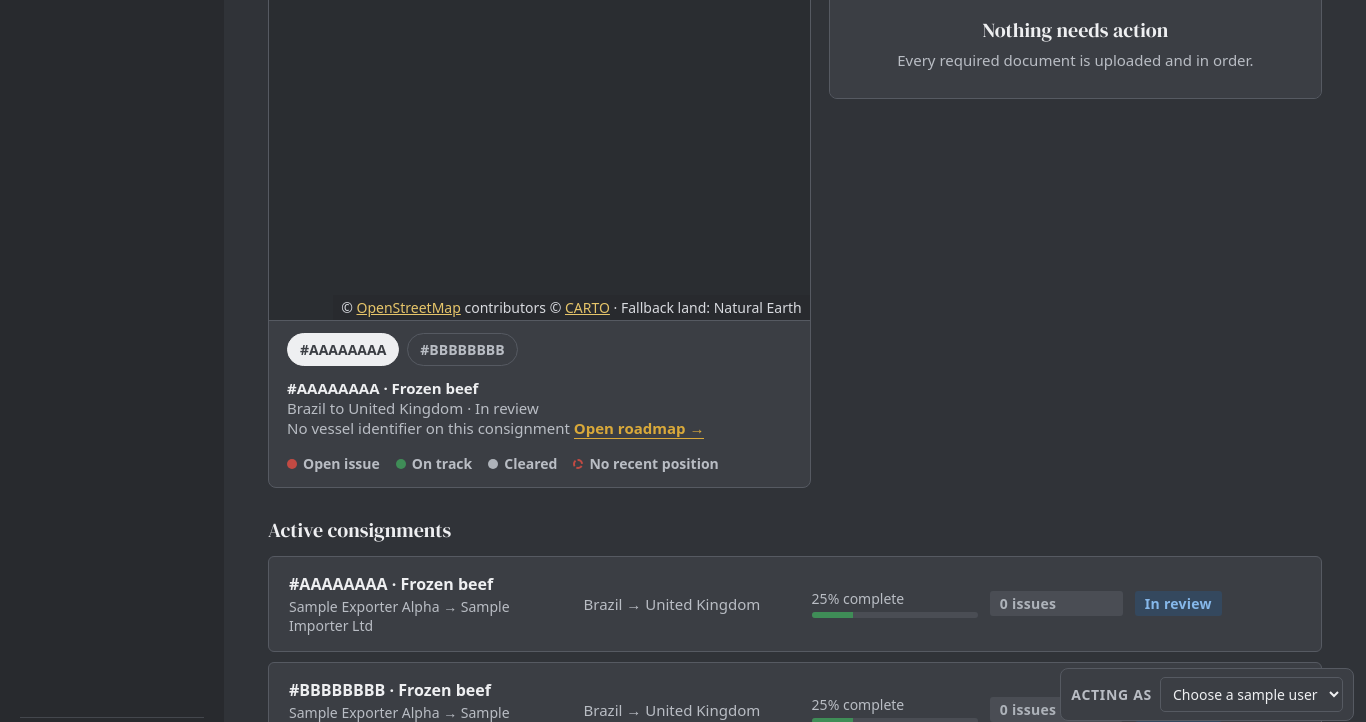
map: the info line › says why there is no dot for a consignment with no vessel, and for one with no position yet
The width and height of the screenshot is (1366, 722).
(page scrolled)
Expected: the element "Consignment map" shows "No vessel identifier on this consignment", [287,418,570,438]
Click the button "#BBBBBBBB". click: (462, 349)
box: [407,332,518,366]
(page scrolled)
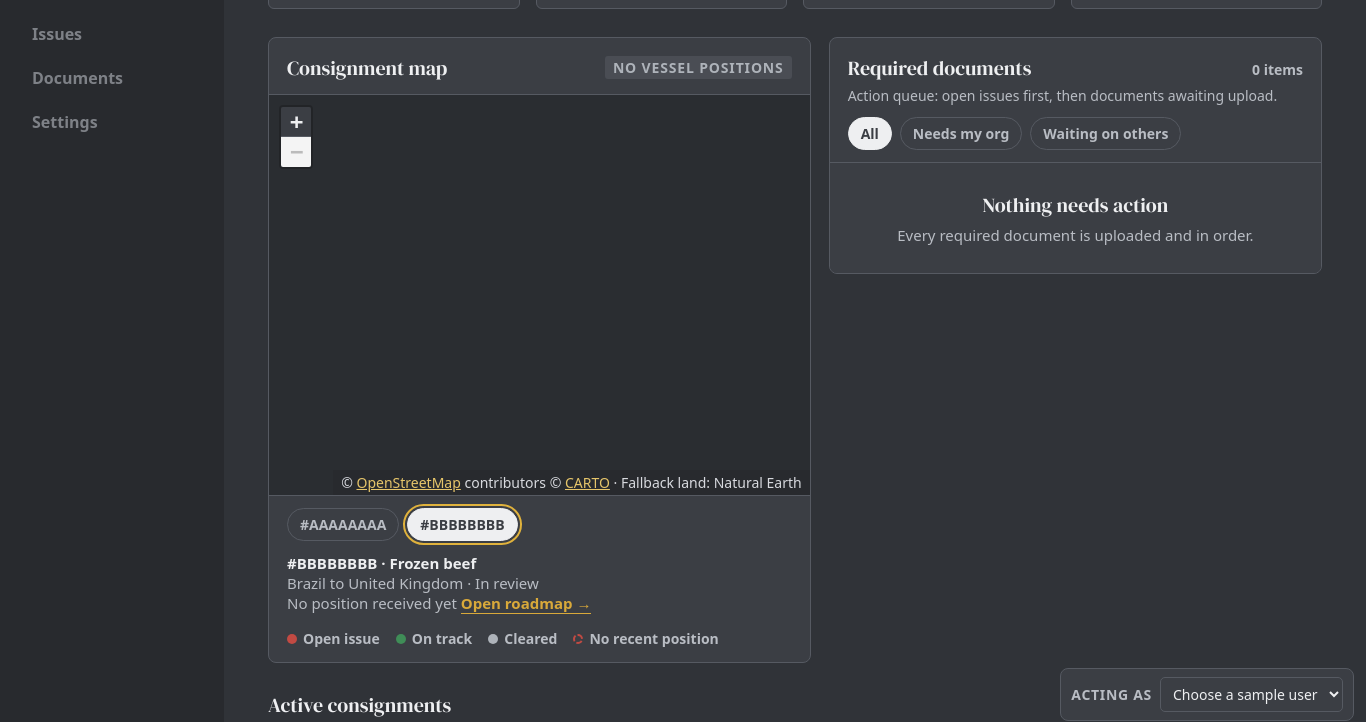
Result: the element "Consignment map" shows "No position received yet" at [287,592,457,612]
Result: the element "Consignment map" no longer shows "No vessel identifier on this consignment" at [268,36,811,662]
